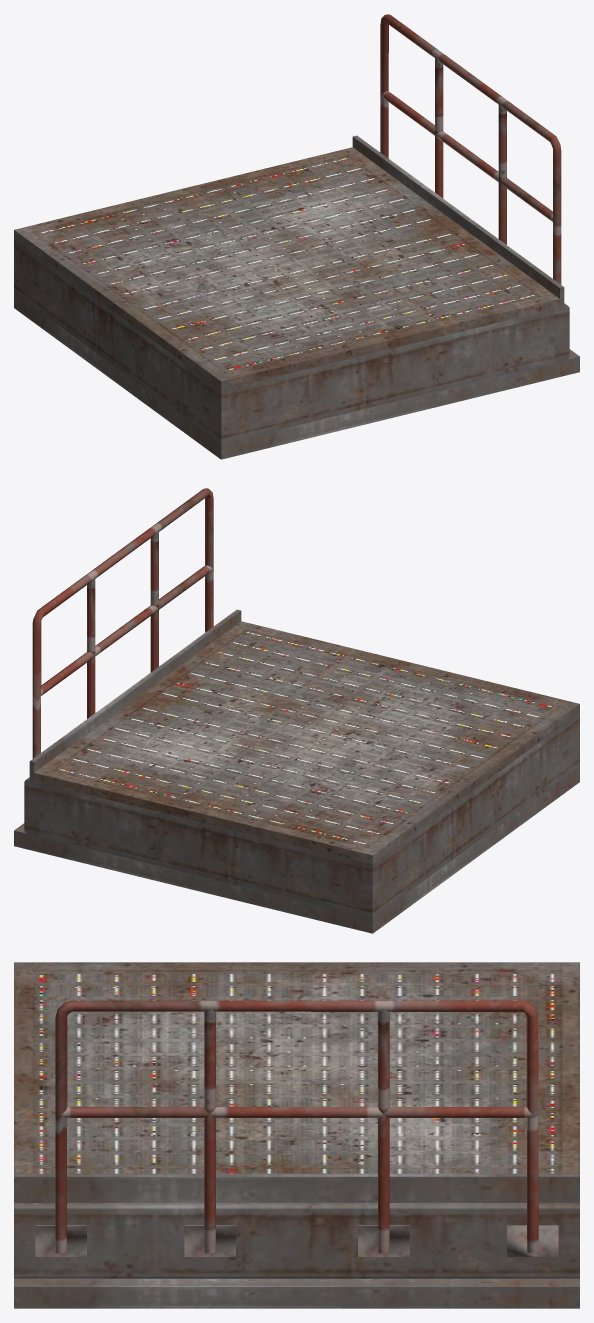
Rendered from walkway_b_300x300_single.glb.
The picture shows the model from 3 angles, top to bottom: view 1: azimuth 30°, elevation 25°; view 2: azimuth 150°, elevation 25°; view 3: azimuth 270°, elevation 25°; orthographic projection. The views are drawn at different scales.
Parts seen in each view (by area): view 1: walkway_b_300x300_single; view 2: walkway_b_300x300_single; view 3: walkway_b_300x300_single.
Boxes of the visible parts, x1=… form: walkway_b_300x300_single: x1=14, y1=14, x2=579, y2=459; walkway_b_300x300_single: x1=14, y1=488, x2=579, y2=933; walkway_b_300x300_single: x1=14, y1=962, x2=579, y2=1308.
Size of the model in its own units: 3 by 1.78 by 3.
Materials: 1 (1 with a texture image).
